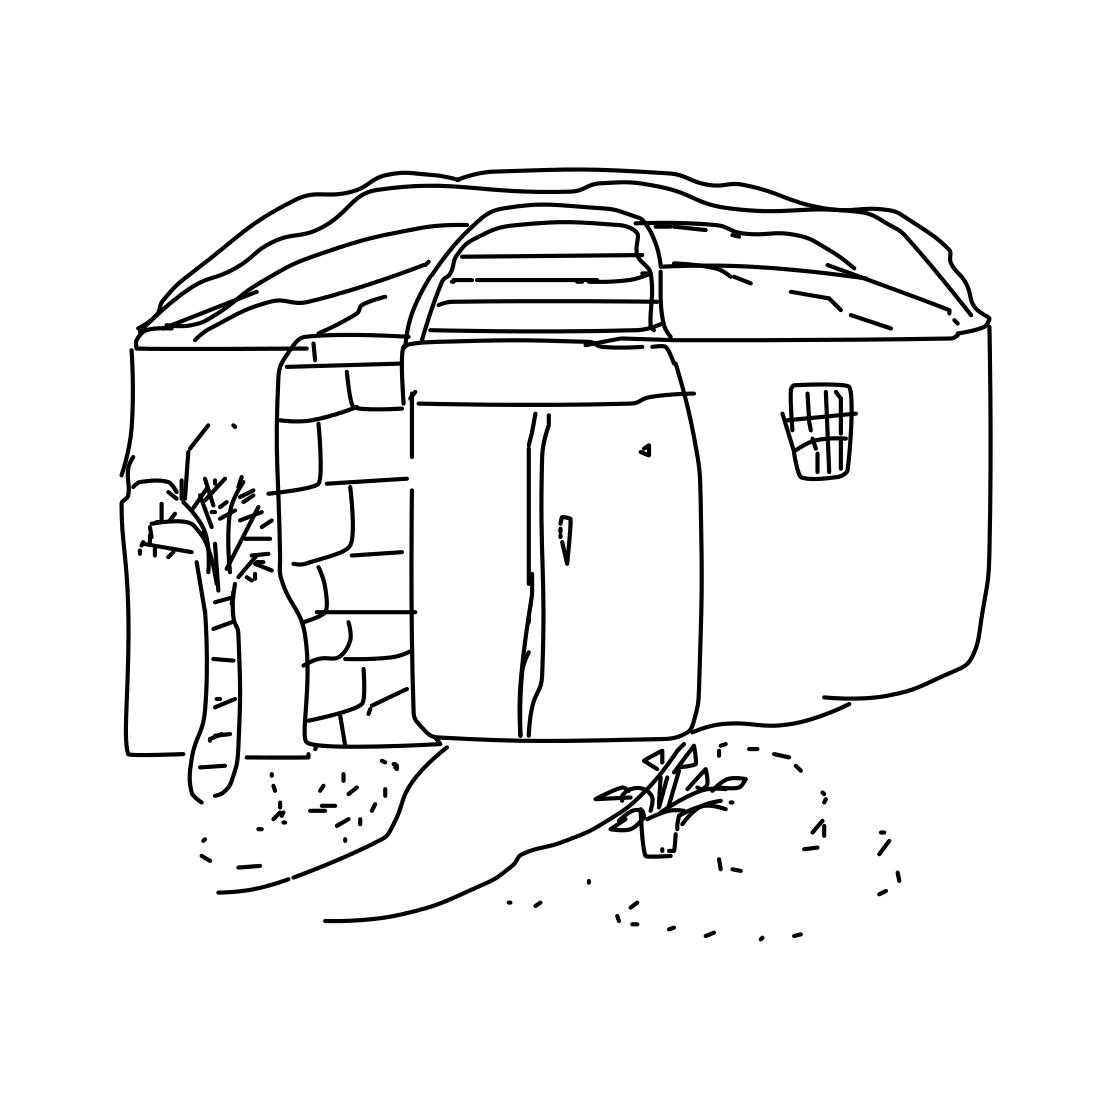door: (402, 382, 715, 744)
house: (89, 140, 1037, 775)
roof: (102, 136, 1050, 366)
wall: (97, 365, 1016, 755)
window: (767, 370, 877, 495)
